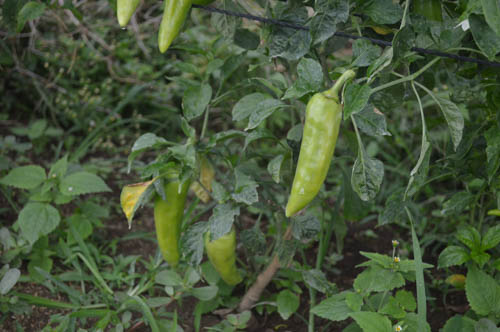ChiliPepper: (283, 79, 345, 221), (148, 173, 191, 268), (204, 223, 249, 289), (148, 1, 197, 53), (110, 1, 145, 30)
